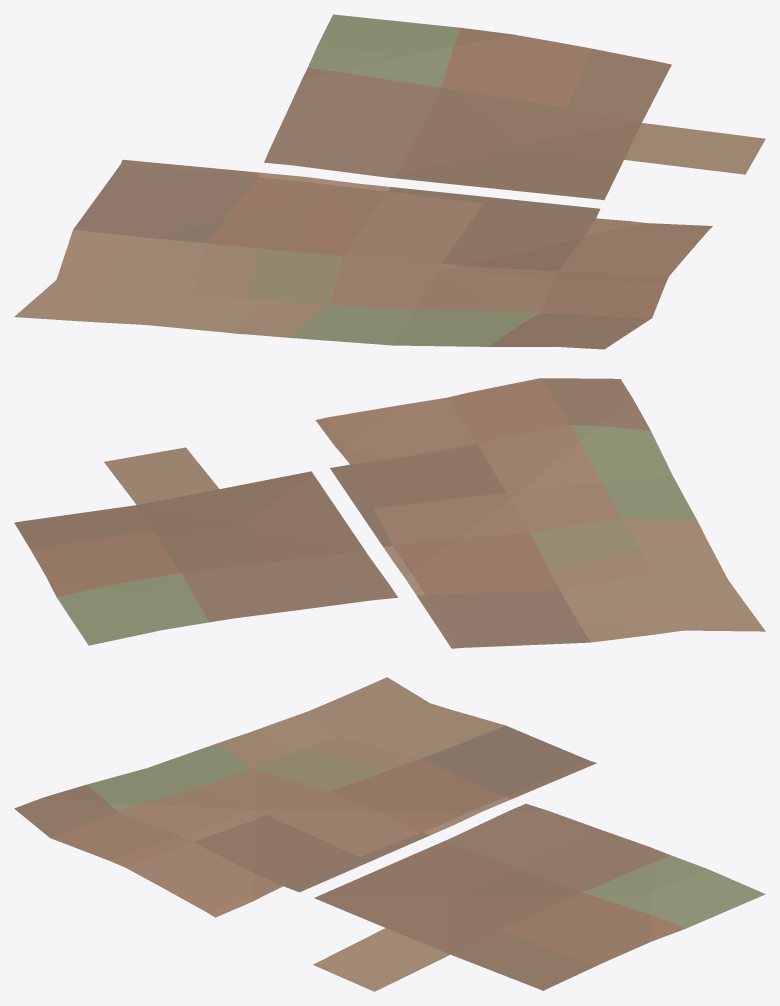
Rendered from farm_-10_0_soil.glb.
3 views of the same model, one above another, from view 1: azimuth 30°, elevation 25°; view 2: azimuth 150°, elevation 25°; view 3: azimuth 270°, elevation 25° (orthographic). The views are drawn at different scales.
Parts seen in each view (by area): view 1: geometry_0; view 2: geometry_0; view 3: geometry_0.
Part boxes in pixels (x1,y1,x2,y2): geometry_0: (14,14,765,349); geometry_0: (14,378,765,648); geometry_0: (14,677,765,991).
Size of the model in its own units: 303 by 12.64 by 303.
